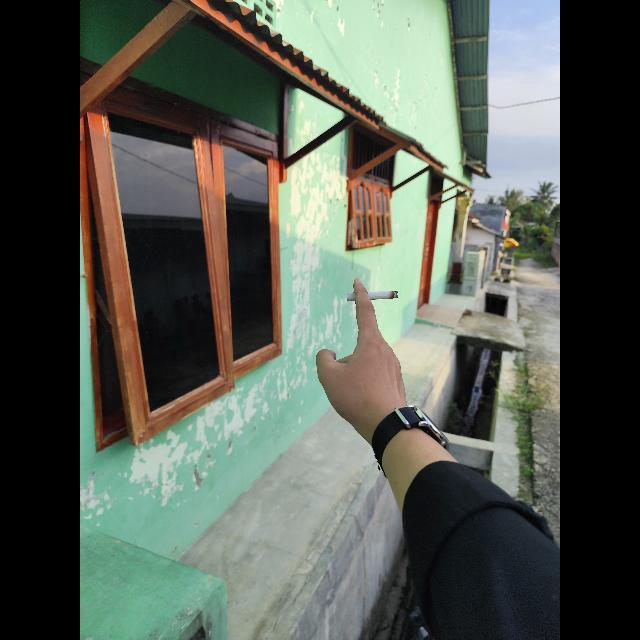rokok: (346, 286, 406, 306)
